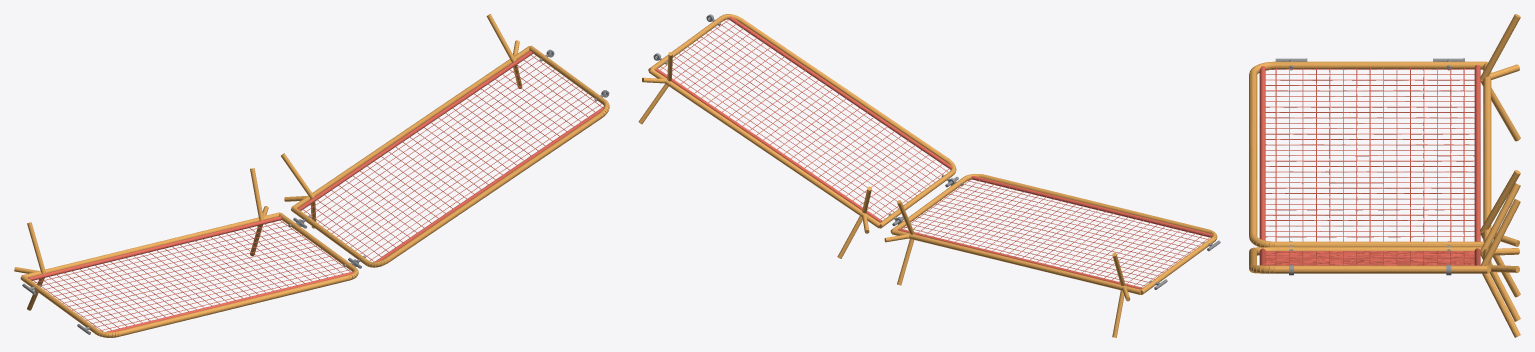
File: material-panel_infill-red-enamel-infill.glb
3 views of the same model, side by side, from view 1: azimuth 30°, elevation 25°; view 2: azimuth 150°, elevation 25°; view 3: azimuth 270°, elevation 25° (orthographic). The views are drawn at different scales.
Parts seen in each view (by area): view 1: panel_0__infill, panel_0__frame, panel_0__eye_top; view 2: panel_0__infill, panel_0__frame, panel_0__eye_top; view 3: panel_0__infill, panel_0__frame, panel_0__eye_top.
Part boxes in pixels (bbox=[...]): panel_0__infill: bbox=[28, 50, 604, 332]; panel_0__frame: bbox=[14, 14, 609, 337]; panel_0__eye_top: bbox=[22, 49, 609, 334]; panel_0__infill: bbox=[655, 16, 1212, 289]; panel_0__frame: bbox=[638, 14, 1217, 337]; panel_0__eye_top: bbox=[653, 14, 1220, 289]; panel_0__infill: bbox=[1259, 65, 1480, 265]; panel_0__frame: bbox=[1249, 14, 1520, 337]; panel_0__eye_top: bbox=[1275, 58, 1464, 275].
Size of the model in its own units: 4.09 by 1.37 by 1.28.
